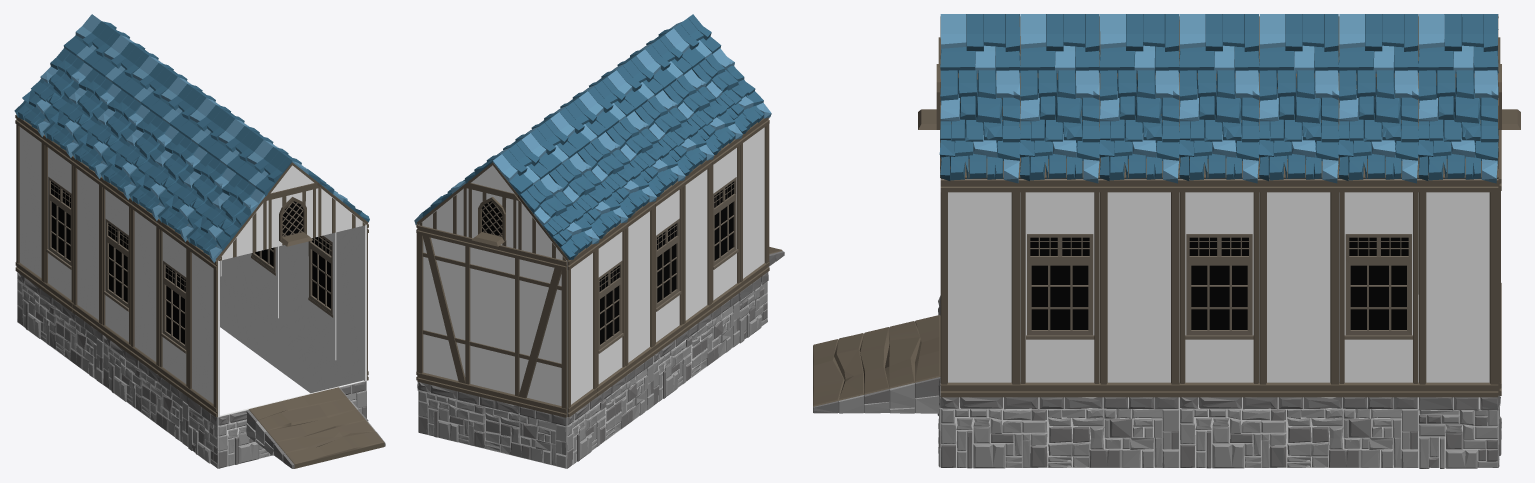
The model's file is House_04_parts.glb.
The picture shows the model from 3 angles, left to right: view 1: azimuth 30°, elevation 25°; view 2: azimuth 150°, elevation 25°; view 3: azimuth 270°, elevation 25°; orthographic projection. The views are drawn at different scales.
Parts seen in each view (by area): view 1: STAIRS_05_3, WALL_03_7, WALL_03_9, WALL_03_10, WALL_03_3, WINDOW_04_7, WINDOW_04_8, WALL_03_8, WINDOW_04_6, FOUNDATION_02_16, FOUNDATION_02_15, WINDOW_04_3 (+26 smaller); view 2: WALL_02_2, FOUNDATION_02_17, WALL_03_10, WALL_03_8, WALL_03_9, WALL_03_7, WINDOW_04_8, WINDOW_04_7, FOUNDATION_02_16, WINDOW_04_6, FOUNDATION_02_15, ROOF_base_10 (+19 smaller); view 3: WINDOW_04_4, WALL_03_3, WALL_03_6, WALL_03_5, WINDOW_04_5, WINDOW_04_3, WALL_03_4, FOUNDATION_02_18, FOUNDATION_02_19, STAIRS_05_3, ROOF_base_9, ROOF_base_6 (+14 smaller).
Boxes of the visible parts, x1,y1,x2,y2 form: STAIRS_05_3: [246, 387, 385, 468]; WALL_03_7: [187, 240, 219, 417]; WALL_03_9: [72, 156, 102, 332]; WALL_03_10: [15, 114, 45, 291]; WALL_03_3: [336, 224, 368, 380]; WINDOW_04_7: [101, 177, 131, 354]; WINDOW_04_8: [44, 136, 73, 312]; WALL_03_8: [130, 198, 159, 374]; WINDOW_04_6: [158, 219, 188, 395]; FOUNDATION_02_16: [17, 272, 103, 384]; FOUNDATION_02_15: [103, 335, 189, 446]; WINDOW_04_3: [306, 232, 336, 360]; WALL_02_2: [417, 225, 567, 417]; FOUNDATION_02_17: [418, 382, 566, 468]; WALL_03_10: [567, 243, 597, 417]; WALL_03_8: [682, 159, 712, 333]; WALL_03_9: [625, 201, 654, 374]; WALL_03_7: [740, 117, 769, 291]; WINDOW_04_8: [596, 222, 626, 396]; WINDOW_04_7: [654, 180, 683, 354]; FOUNDATION_02_16: [566, 356, 653, 468]; WINDOW_04_6: [711, 138, 741, 312]; FOUNDATION_02_15: [653, 293, 739, 405]; ROOF_base_10: [517, 174, 599, 260]; WINDOW_04_4: [1179, 179, 1259, 397]; WALL_03_3: [940, 179, 1020, 397]; WALL_03_6: [1418, 179, 1498, 397]; WALL_03_5: [1259, 179, 1338, 397]; WINDOW_04_5: [1339, 179, 1418, 397]; WINDOW_04_3: [1020, 179, 1099, 397]; WALL_03_4: [1100, 179, 1179, 397]; FOUNDATION_02_18: [1179, 397, 1418, 468]; FOUNDATION_02_19: [940, 397, 1179, 468]; STAIRS_05_3: [813, 315, 940, 413]; ROOF_base_9: [1418, 70, 1498, 183]; ROOF_base_6: [1178, 68, 1259, 183].
Size of the model in its own units: 3.2 by 5.59 by 8.88.
Materials: 1 (1 with a texture image).
